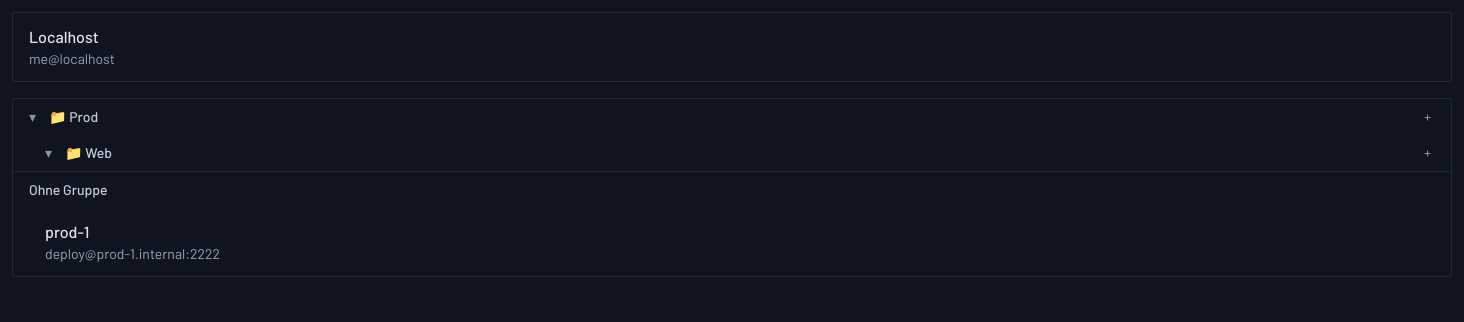
ServerList drag and drop (issue #48 / Spec 0103) › shows the translated cycle error when a group is dropped into its own subgroup
This screenshot has width=1464, height=322.
Expected: the text "📁 Web" is shown, left=65, top=143, right=112, bottom=163
Click the text "📁 Prod": point(74, 117) left=49, top=107, right=98, bottom=127
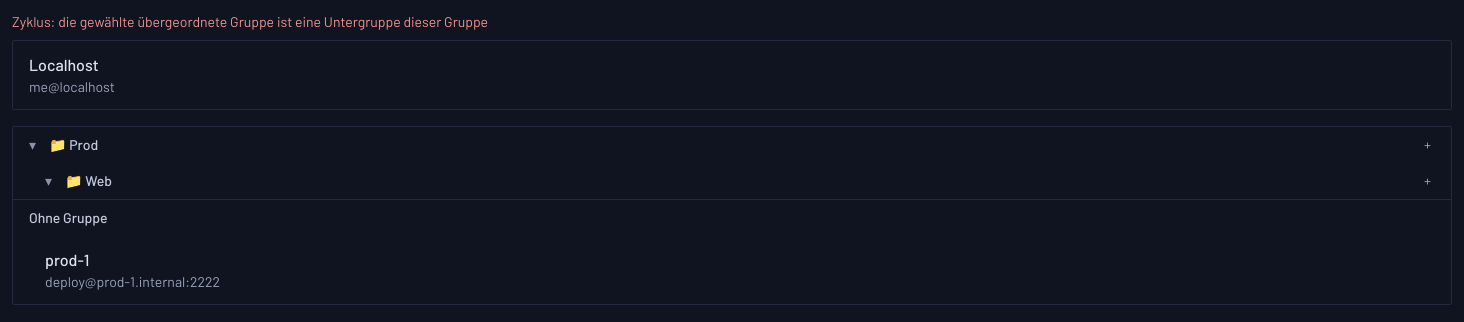
Expected: the text "Zyklus: die gewählte übergeordnete Gruppe ist eine Untergruppe dieser Gruppe" is shown, left=12, top=13, right=488, bottom=30
